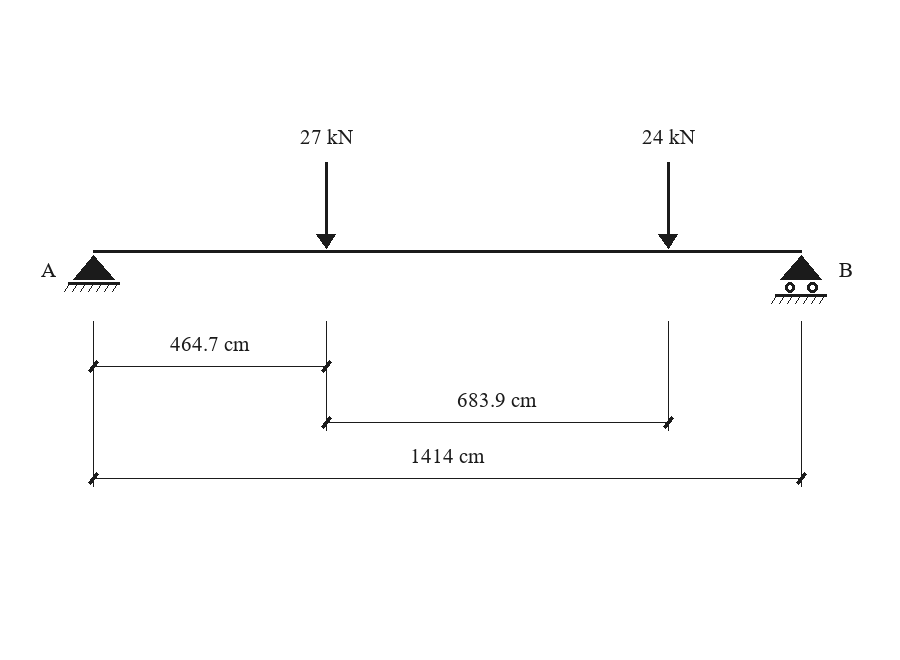pin_support: (64, 255, 120, 292)
point_load: (316, 162, 336, 249), (658, 162, 678, 249)
roller_support: (771, 255, 827, 304)
